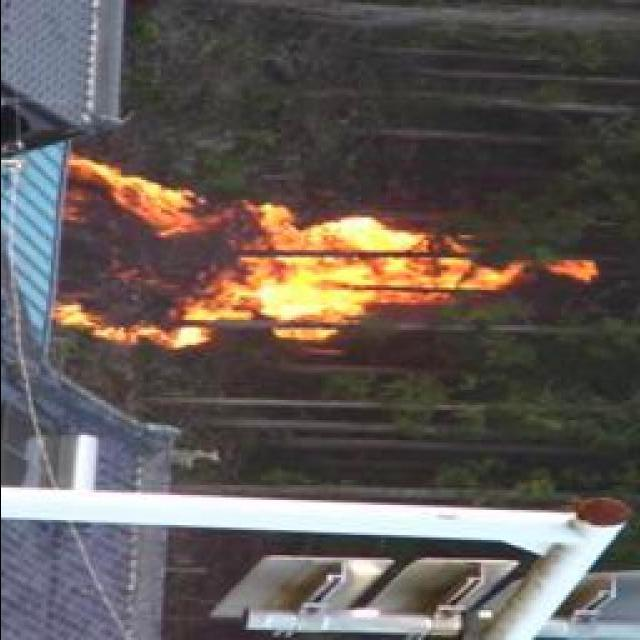Fire: (57, 163, 506, 346)
